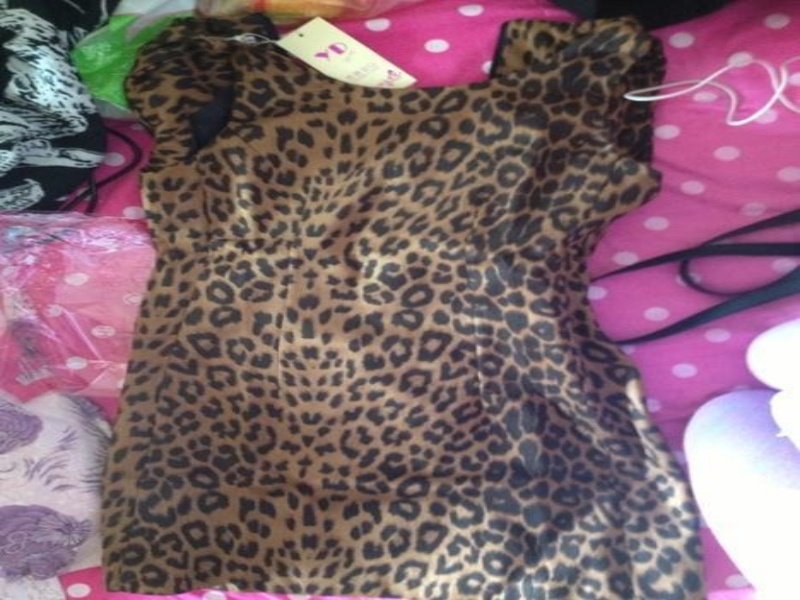vest_dress: (101, 16, 703, 599)
